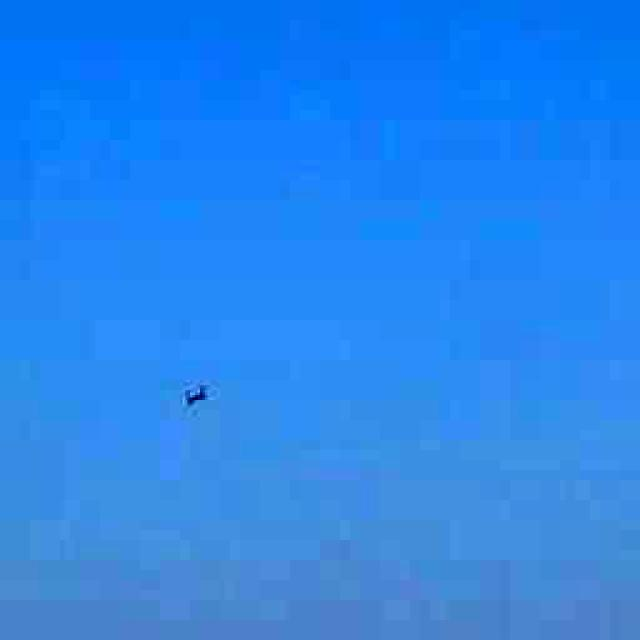bird: (162, 372, 225, 422)
